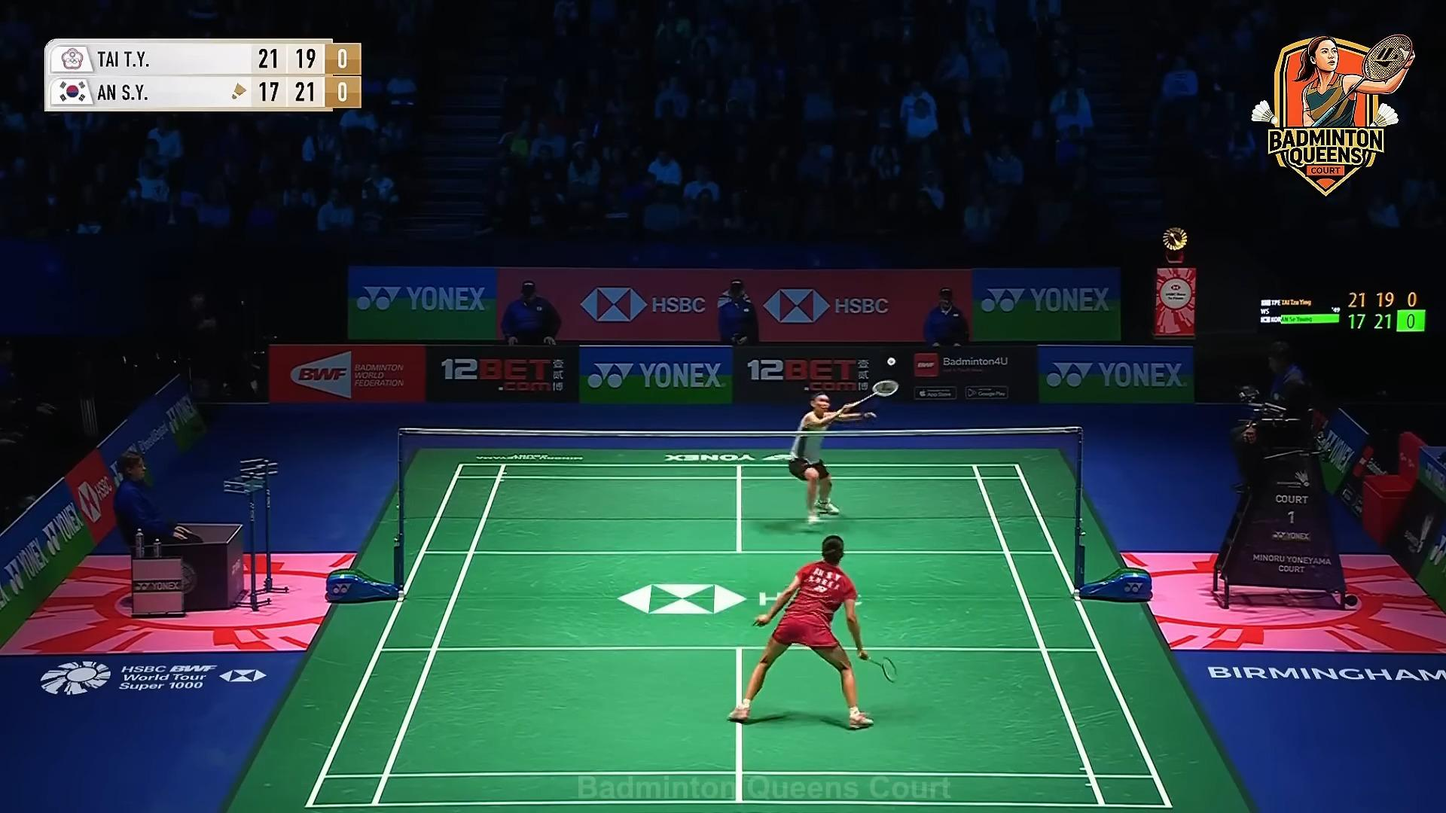shuttlecock: (887, 357, 896, 367)
